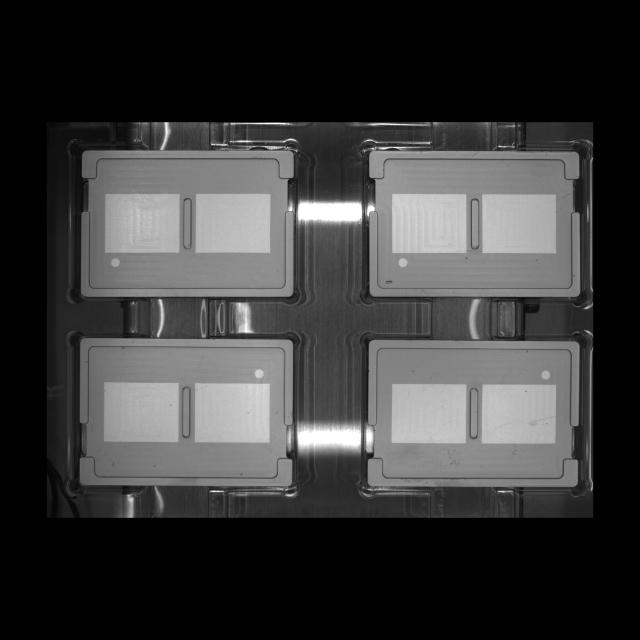product: (64, 135, 303, 306), (356, 135, 590, 307), (66, 328, 299, 497), (357, 328, 589, 497)
